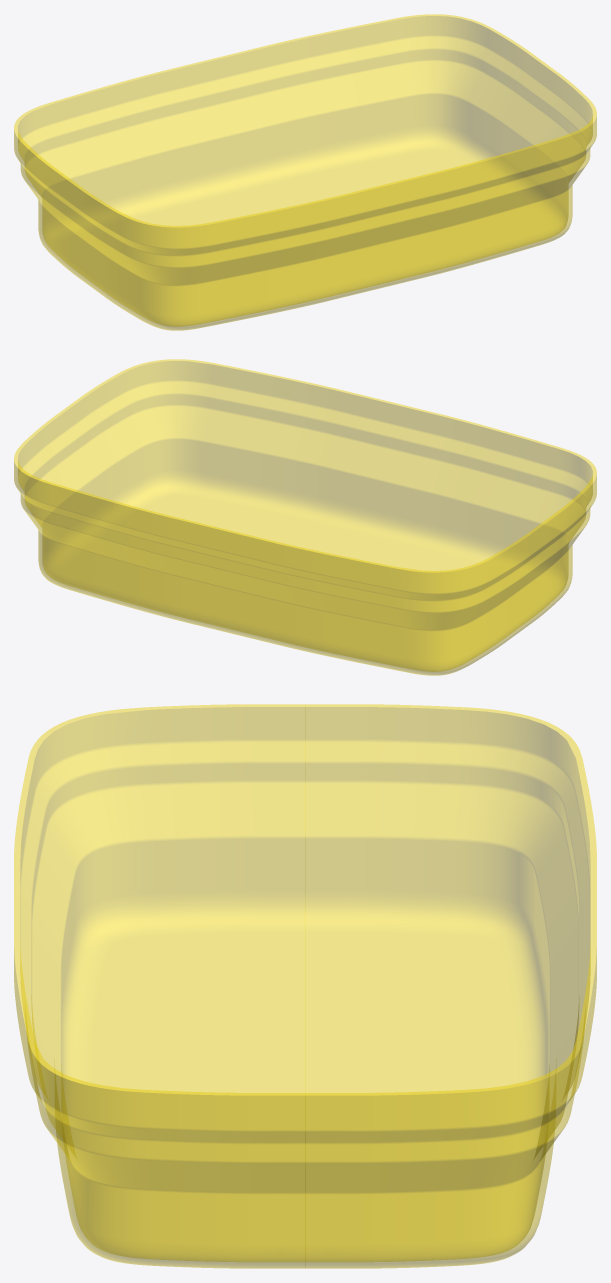
The model's file is container-body.glb.
3 renders of one model, top to bottom at view 1: azimuth 30°, elevation 25°; view 2: azimuth 150°, elevation 25°; view 3: azimuth 270°, elevation 25°, orthographic. The views are drawn at different scales.
Bounding box in the file's own units: 0.286 × 0.0685 × 0.18.
